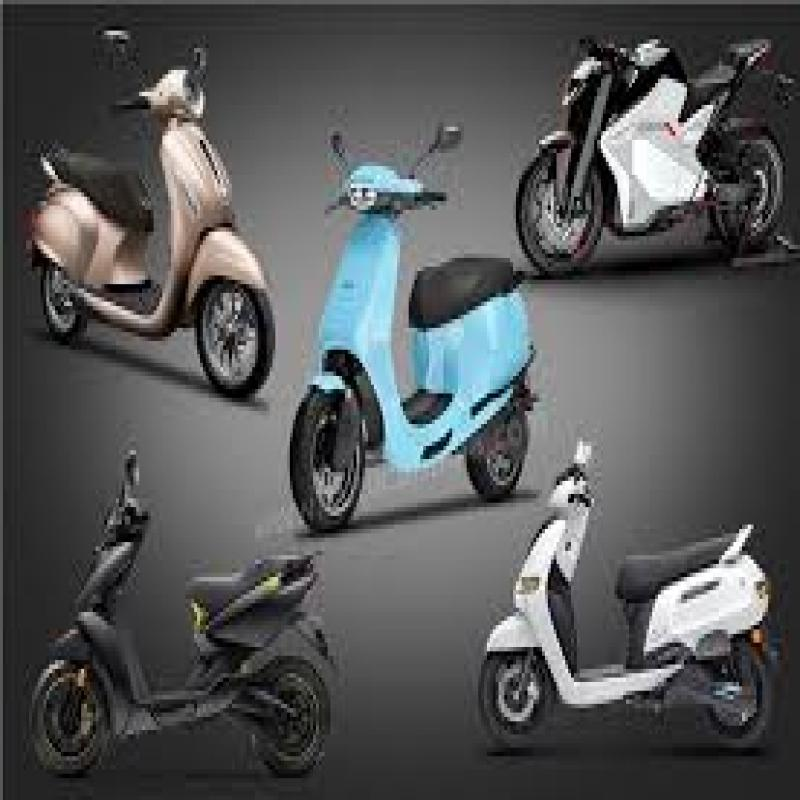bike: (250, 84, 552, 521), (18, 416, 354, 800), (470, 423, 788, 771), (13, 25, 278, 413), (520, 7, 796, 350)
